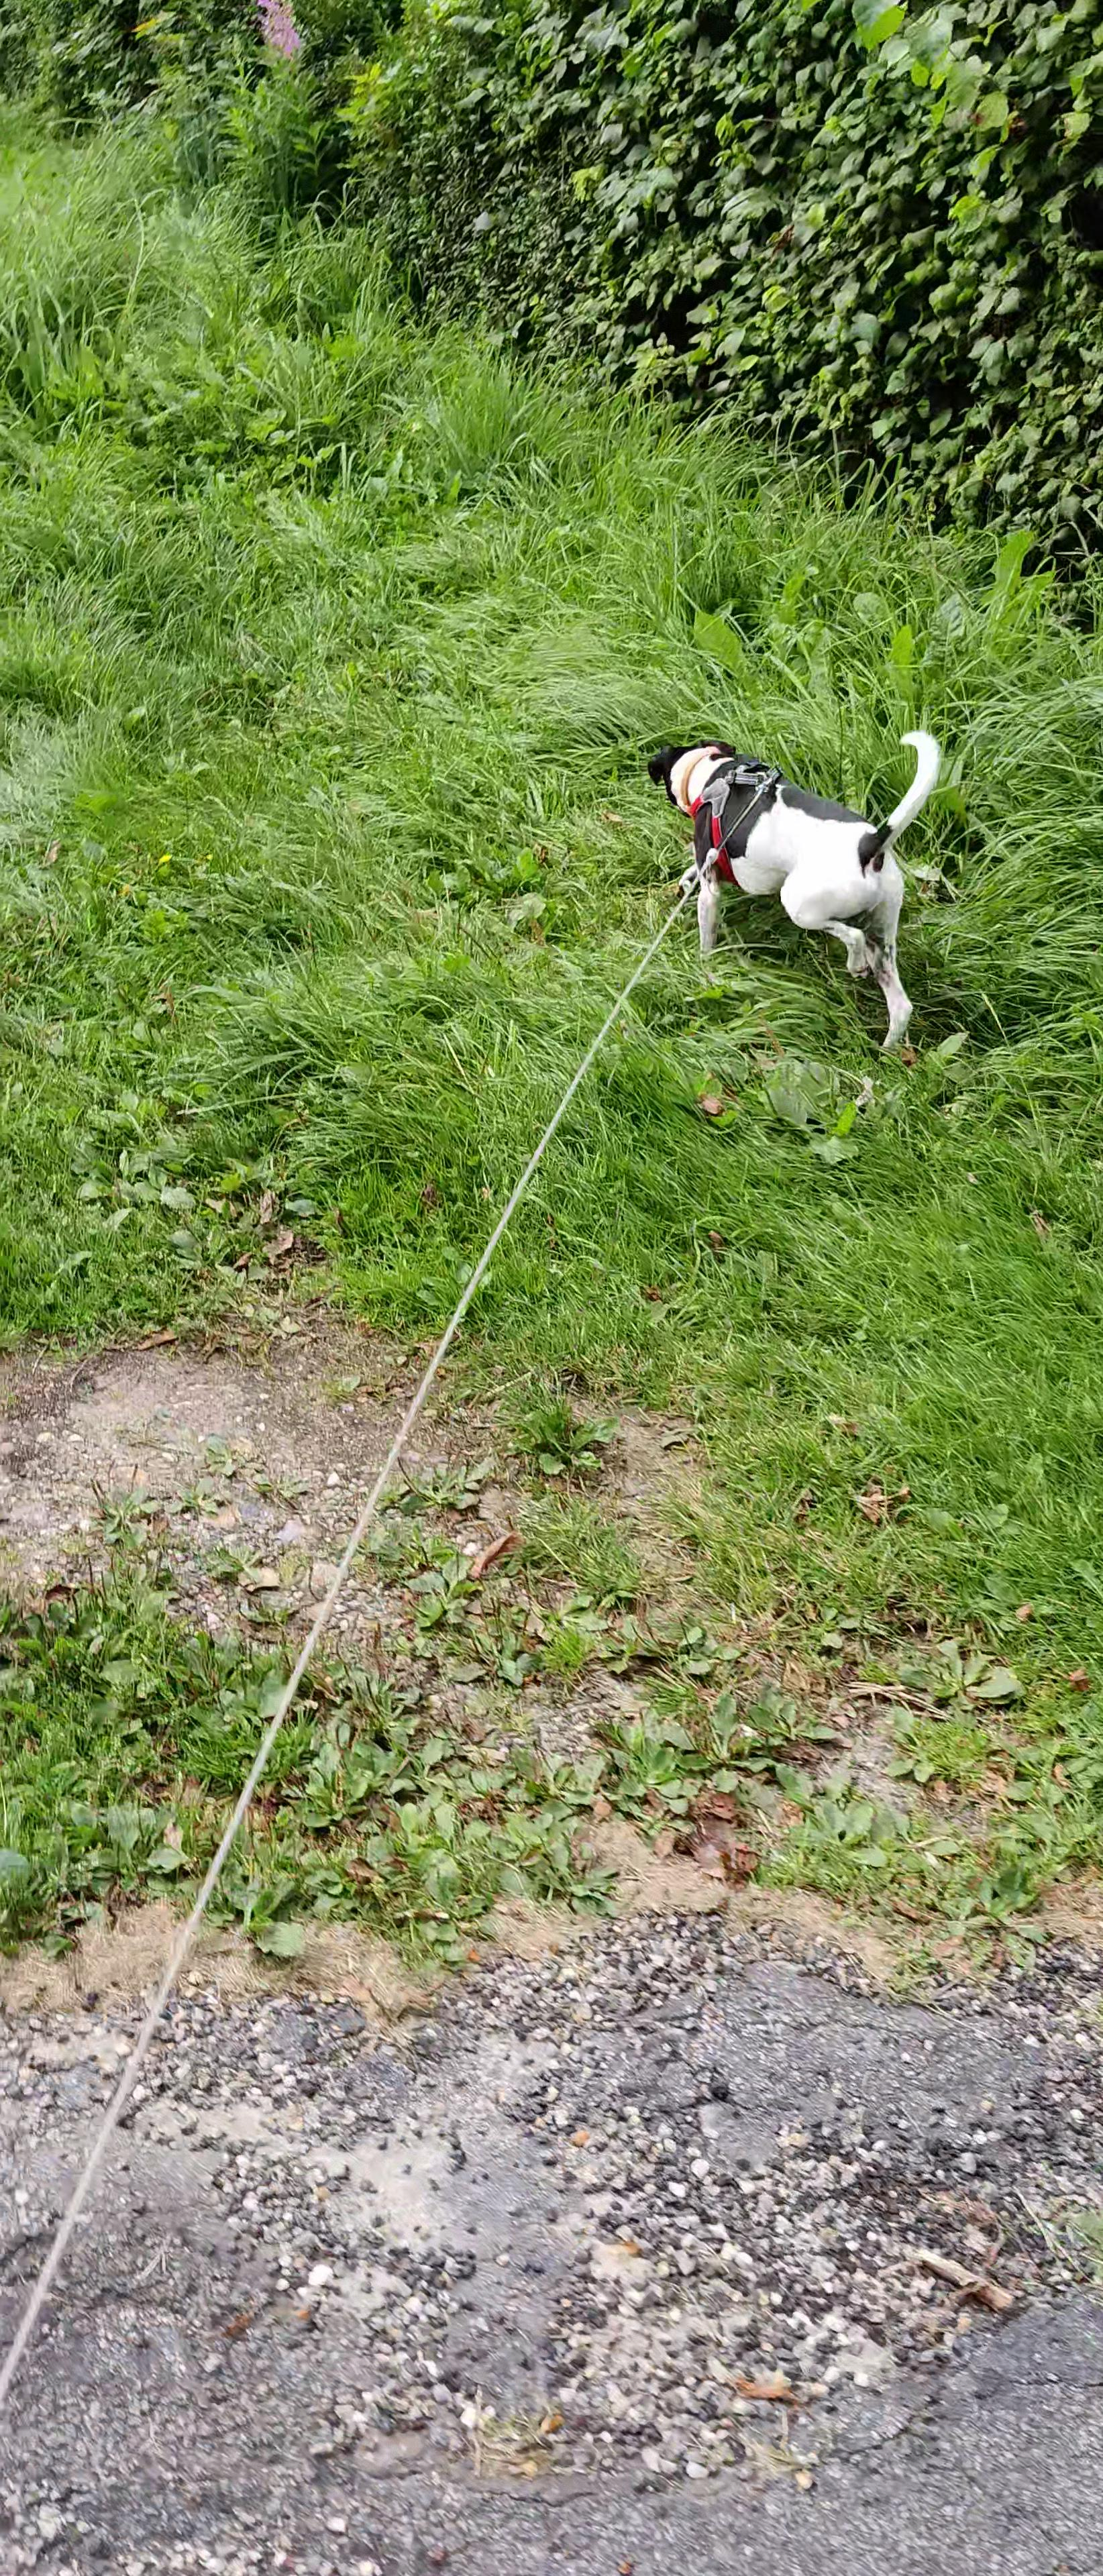Dog: (616, 678, 965, 1081)
